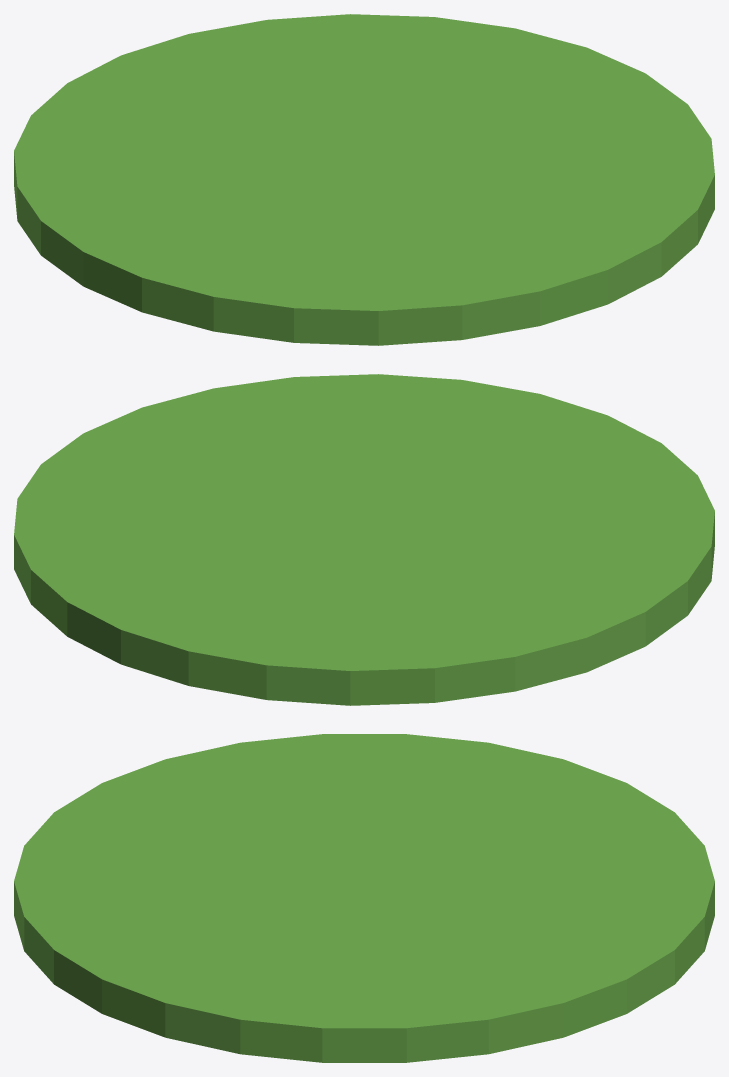
The model's file is Extension.fbx.
3 views of the same model, one above another, from view 1: azimuth 30°, elevation 25°; view 2: azimuth 150°, elevation 25°; view 3: azimuth 270°, elevation 25° (orthographic).
Visible parts, largest first — view 1: Cylinder.078; view 2: Cylinder.078; view 3: Cylinder.078.
Part boxes in pixels (x1,y1,x2,y2): Cylinder.078: (14, 14, 714, 345); Cylinder.078: (14, 374, 714, 705); Cylinder.078: (14, 734, 714, 1062).
Bounding box in the file's own units: 6106 × 335 × 6151.
